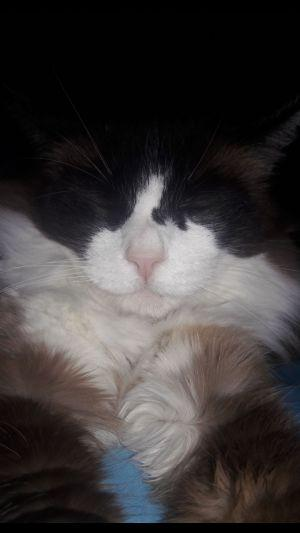ragdoll: (28, 54, 281, 325)
